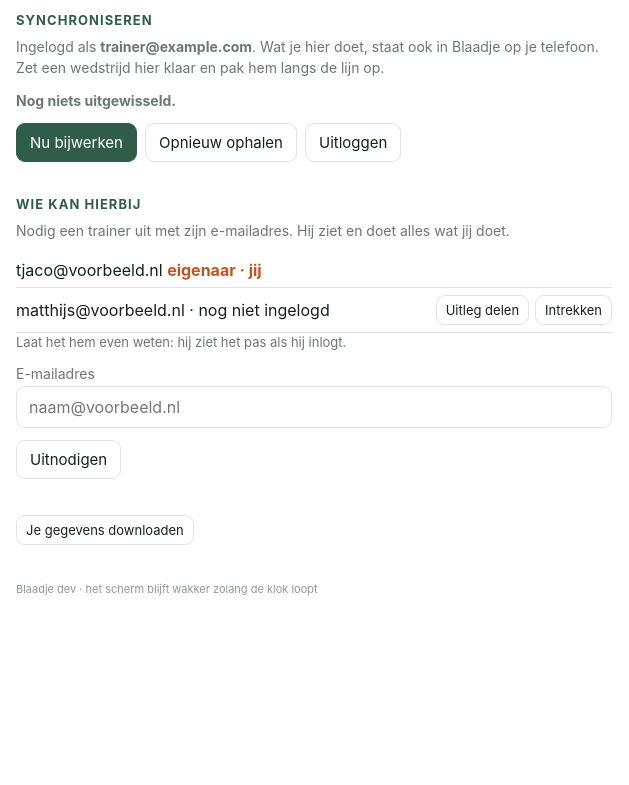
het gegevensscherm als je ingelogd bent › valt terug op het klembord en laat de tekst zien
The width and height of the screenshot is (629, 785).
Click the button "Uitleg delen": point(482, 310) [436,295,529,325]
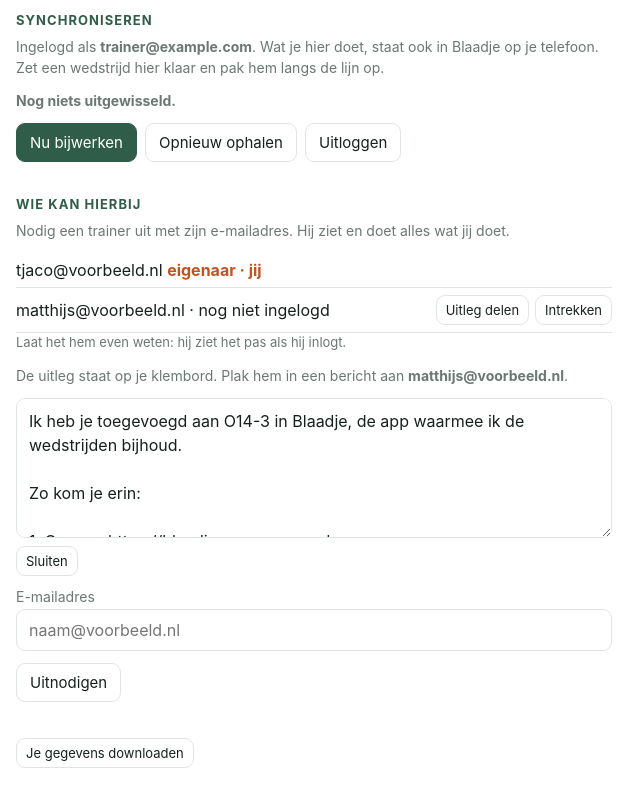
Check: the text "op je klembord" is shown, box [16,366,408,384]
